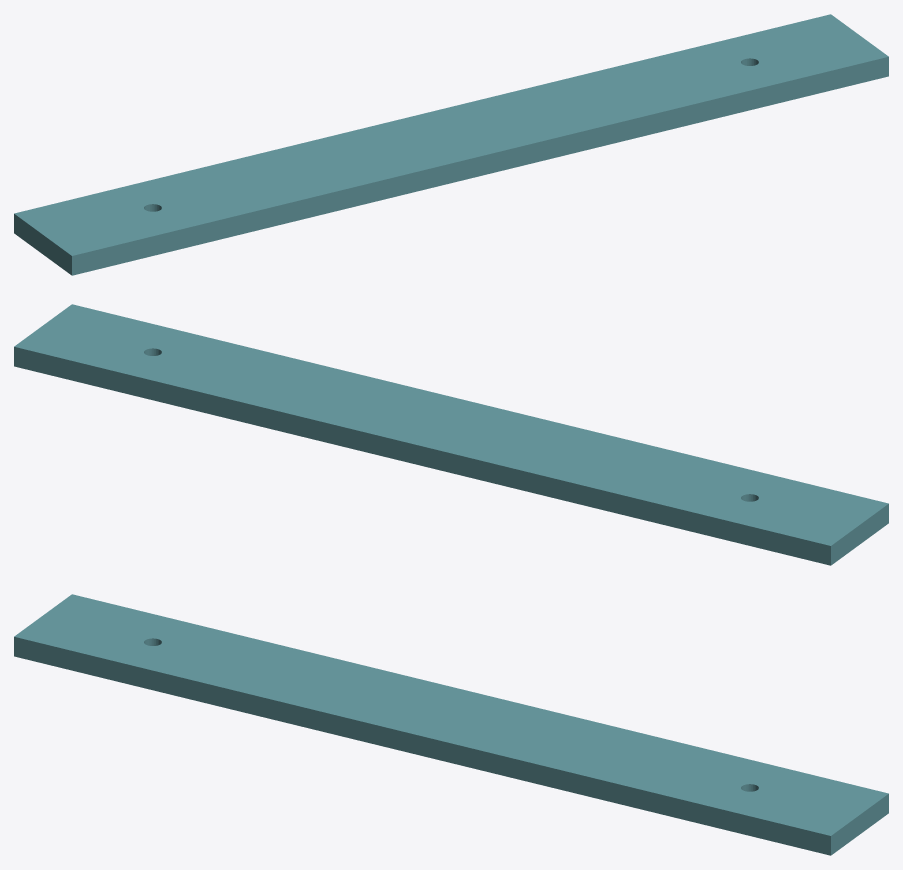
Rendered from Right-runner-spacer-6-3.glb.
3 renders of one model, top to bottom at view 1: azimuth 30°, elevation 25°; view 2: azimuth 150°, elevation 25°; view 3: azimuth 330°, elevation 25°, orthographic.
Parts seen in each view (by area): view 1: Right-runner-spacer-6-3; view 2: Right-runner-spacer-6-3; view 3: Right-runner-spacer-6-3.
Part boxes in pixels (x1,y1,x2,y2): Right-runner-spacer-6-3: (14,14,888,275); Right-runner-spacer-6-3: (14,304,888,565); Right-runner-spacer-6-3: (14,594,888,855).
Size of the model in its own units: 0.26 by 0.006 by 0.032.
